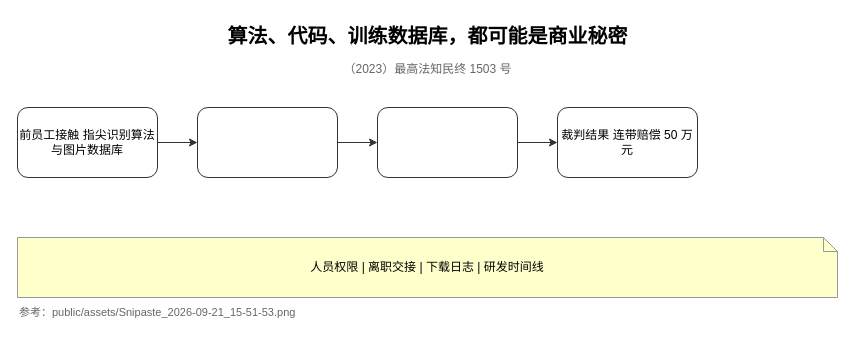
Image size: 855x338. Some labels were removed from this diagram. Here are the shapes that lost their labels. From the top down, the box of each, then its label:
(196, 106, 338, 178): 离职后短期推出 高度近似产品
(376, 106, 518, 178): 商业秘密保护 停止披露、使用并销毁载体
